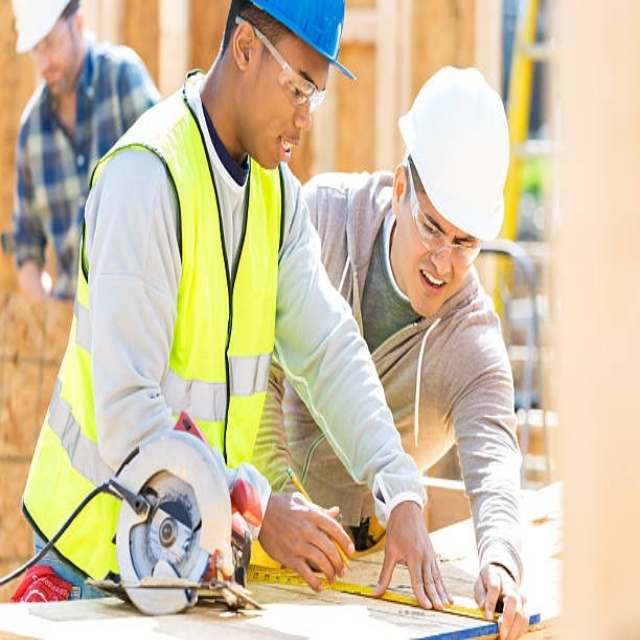Gafas: (233, 14, 329, 118), (405, 158, 483, 271)
Sin_guantes: (259, 489, 355, 592), (368, 502, 451, 611), (478, 560, 530, 640)
Sin_mascara: (413, 259, 451, 315), (267, 130, 304, 169)
